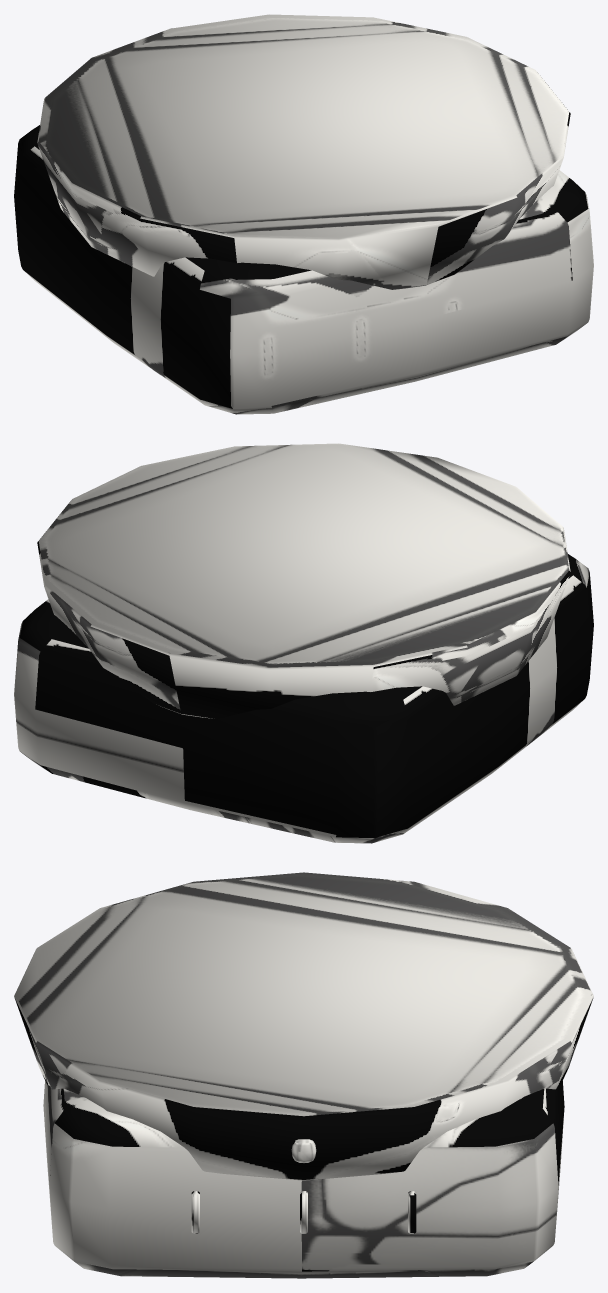
Rendered from Mascarada_GuanteIzq.fbx.
3 views of the same model, one above another, from view 1: azimuth 30°, elevation 25°; view 2: azimuth 150°, elevation 25°; view 3: azimuth 270°, elevation 25° (orthographic). The views are drawn at different scales.
Parts seen in each view (by area): view 1: Mascarada_GuanteIzq; view 2: Mascarada_GuanteIzq; view 3: Mascarada_GuanteIzq.
Boxes of the visible parts, x1,y1,x2,y2 form: Mascarada_GuanteIzq: (14,14,593,414); Mascarada_GuanteIzq: (14,443,593,843); Mascarada_GuanteIzq: (14,872,593,1278).
Bounding box in the file's own units: 1.24 × 0.4658 × 1.24.
